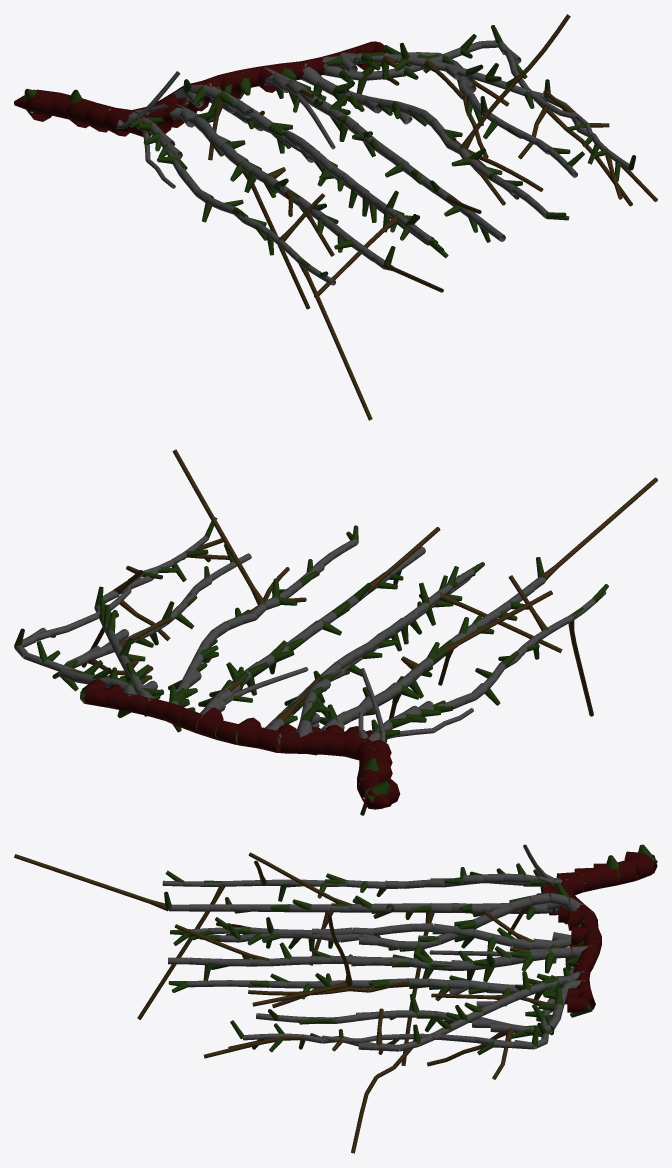
The model's file is tree_8.obj.
3 views of the same model, one above another, from view 1: azimuth 30°, elevation 25°; view 2: azimuth 150°, elevation 25°; view 3: azimuth 270°, elevation 25° (orthographic). The views are drawn at different scales.
Bounding box in the file's own units: 24.21 × 13.61 × 31.57.
